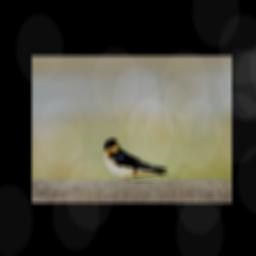Swallow: (103, 138, 180, 183)
